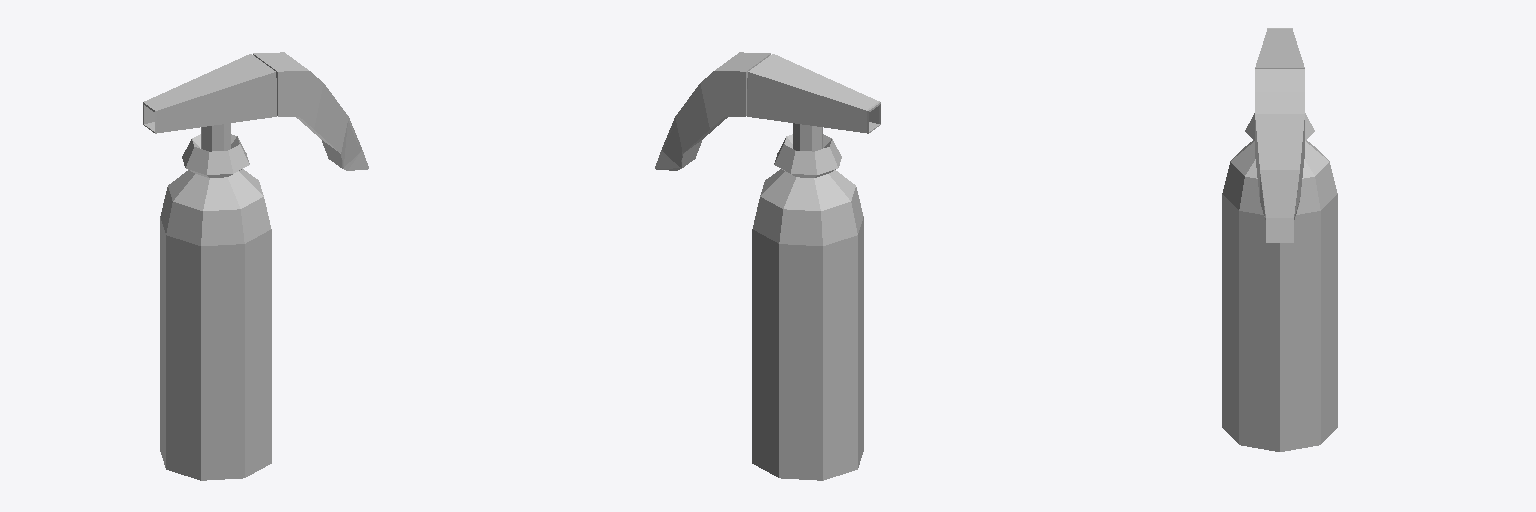
File: fireExtinguisher.obj
3 renders of one model, left to right at view 1: azimuth 30°, elevation 25°; view 2: azimuth 150°, elevation 25°; view 3: azimuth 270°, elevation 25°, orthographic.
Parts seen in each view (by area): view 1: pCylinder1, pCube1, pCylinder2; view 2: pCylinder1, pCube1, pCylinder2; view 3: pCylinder1, pCube1.
Part boxes in pixels (x1,y1,x2,y2): pCylinder1: (160, 134, 271, 480); pCube1: (143, 52, 368, 170); pCylinder2: (201, 123, 230, 151); pCylinder1: (752, 134, 863, 480); pCube1: (655, 52, 880, 170); pCylinder2: (793, 123, 822, 151); pCylinder1: (1222, 113, 1337, 451); pCube1: (1255, 28, 1304, 242).
Bounding box in the file's own units: 4.29 × 7.34 × 2.